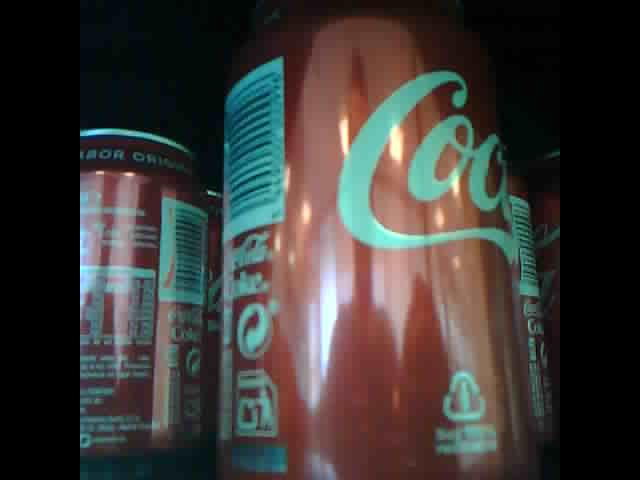coca cola: (203, 13, 531, 477), (80, 122, 201, 464), (499, 137, 559, 459)
